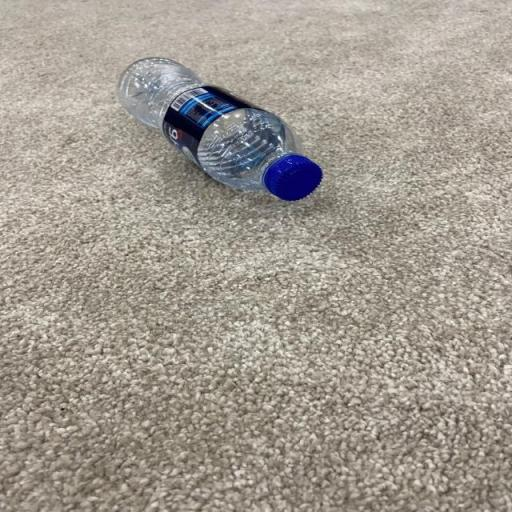plastic: (114, 54, 330, 204)
